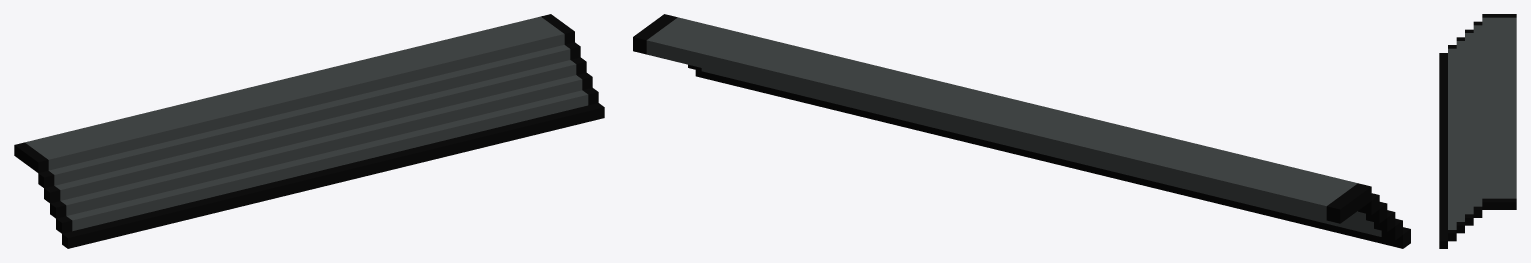
The model's file is House-1-HouseRoof.obj.
The picture shows the model from 3 angles, left to right: view 1: azimuth 30°, elevation 25°; view 2: azimuth 150°, elevation 25°; view 3: azimuth 270°, elevation 25°; orthographic projection. The views are drawn at different scales.
Parts seen in each view (by area): view 1: HouseRoof; view 2: HouseRoof; view 3: HouseRoof.
Boxes of the visible parts, left/top/right/bottom form: HouseRoof: left=14, top=14, right=604, bottom=248; HouseRoof: left=633, top=14, right=1410, bottom=248; HouseRoof: left=1439, top=14, right=1516, bottom=248.
Size of the model in its own units: 5.2 by 0.6 by 0.9.
Materials: 1 (1 with a texture image).
